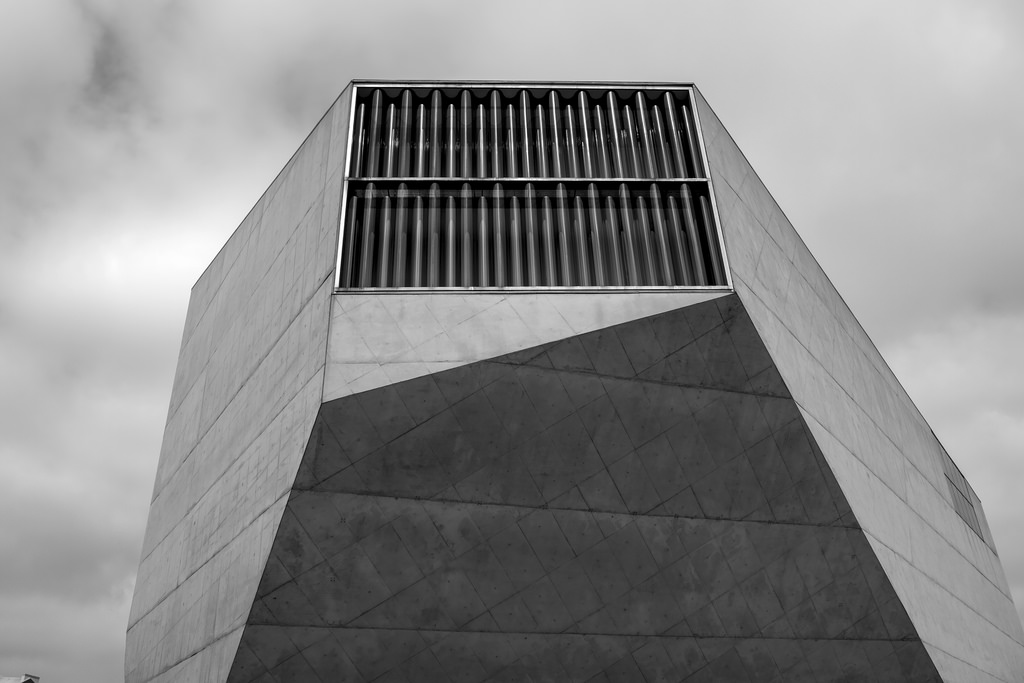musica: (121, 76, 1023, 682)
